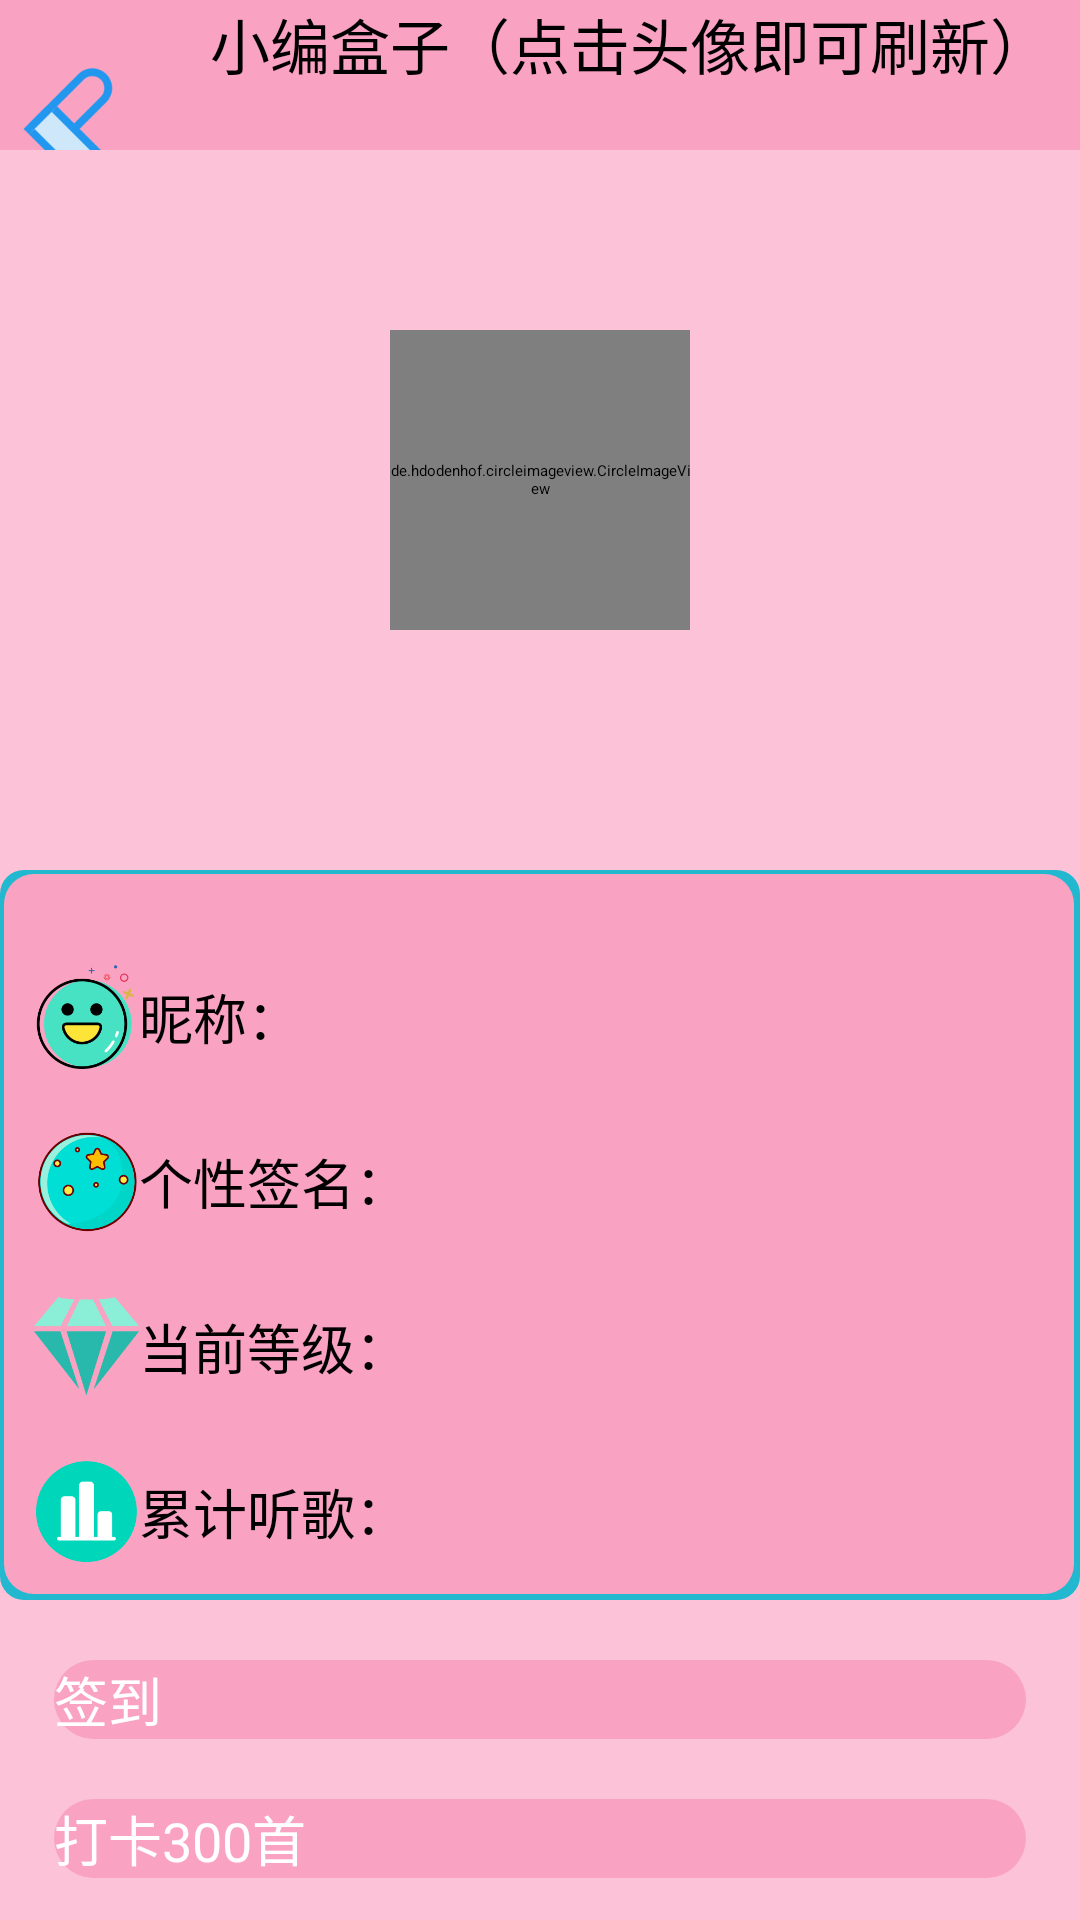

Where icons sit on this 1080 x 1920 app screen, as (x1, y1, x2, y2):
dengji: (34, 1297, 139, 1395)
shuliang: (36, 1461, 137, 1562)
wode: (36, 965, 134, 1069)
xingqiu: (38, 1132, 137, 1231)
